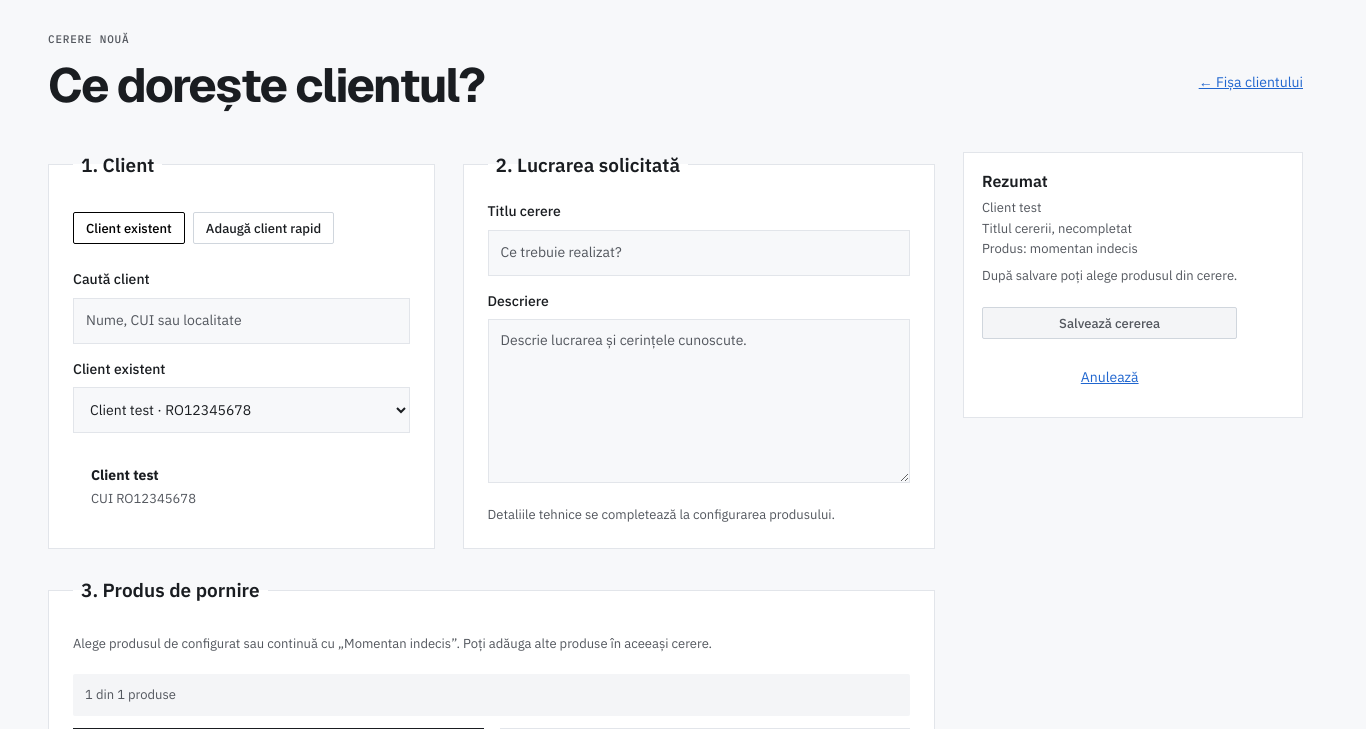
Scenario: request intake › does not navigate from an abandoned pending request or submit twice
Type "Litere atelier" into the field labelled "Titlu cerere".
click(699, 253); type("Litere atelier")  # box [488,230,910,276]
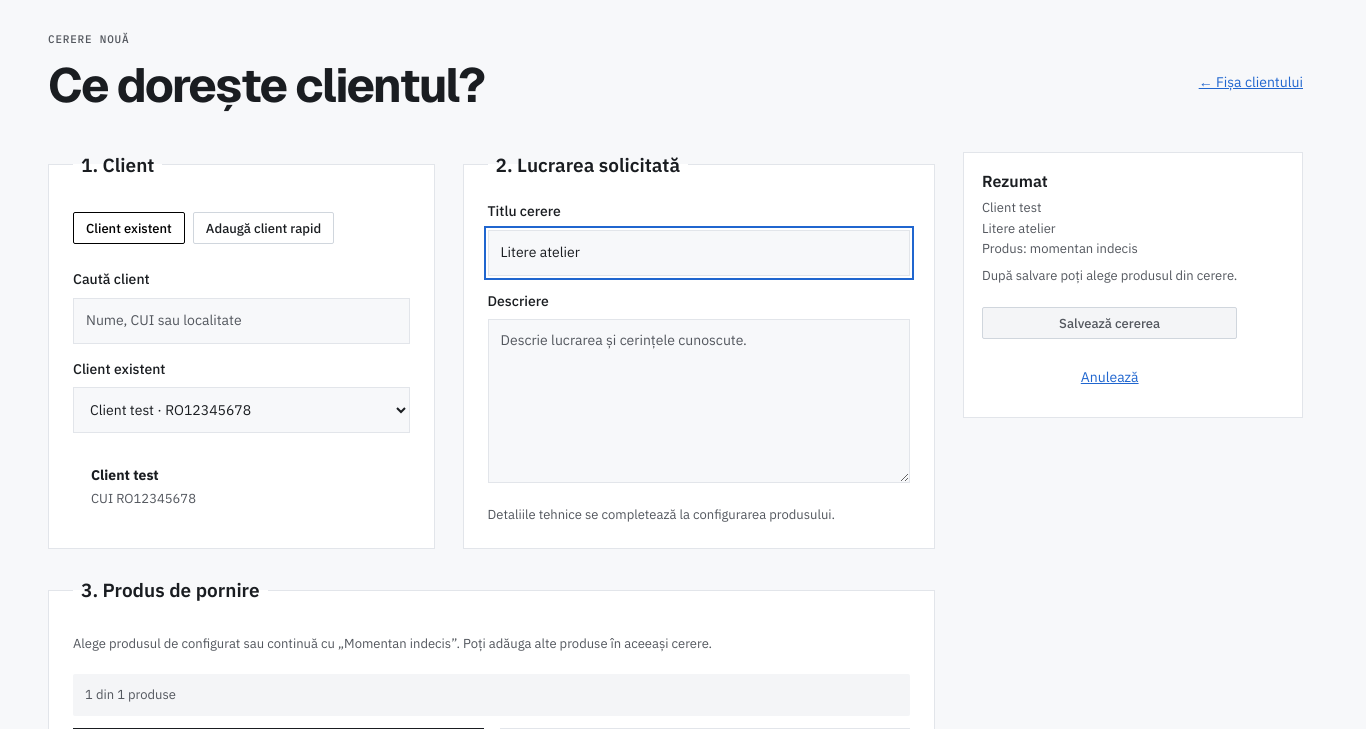
Type "Semnalistică la intrare" into the text box labelled "Descriere".
click(699, 401); type("Semnalistică la intrare")  # box [488,319,910,483]
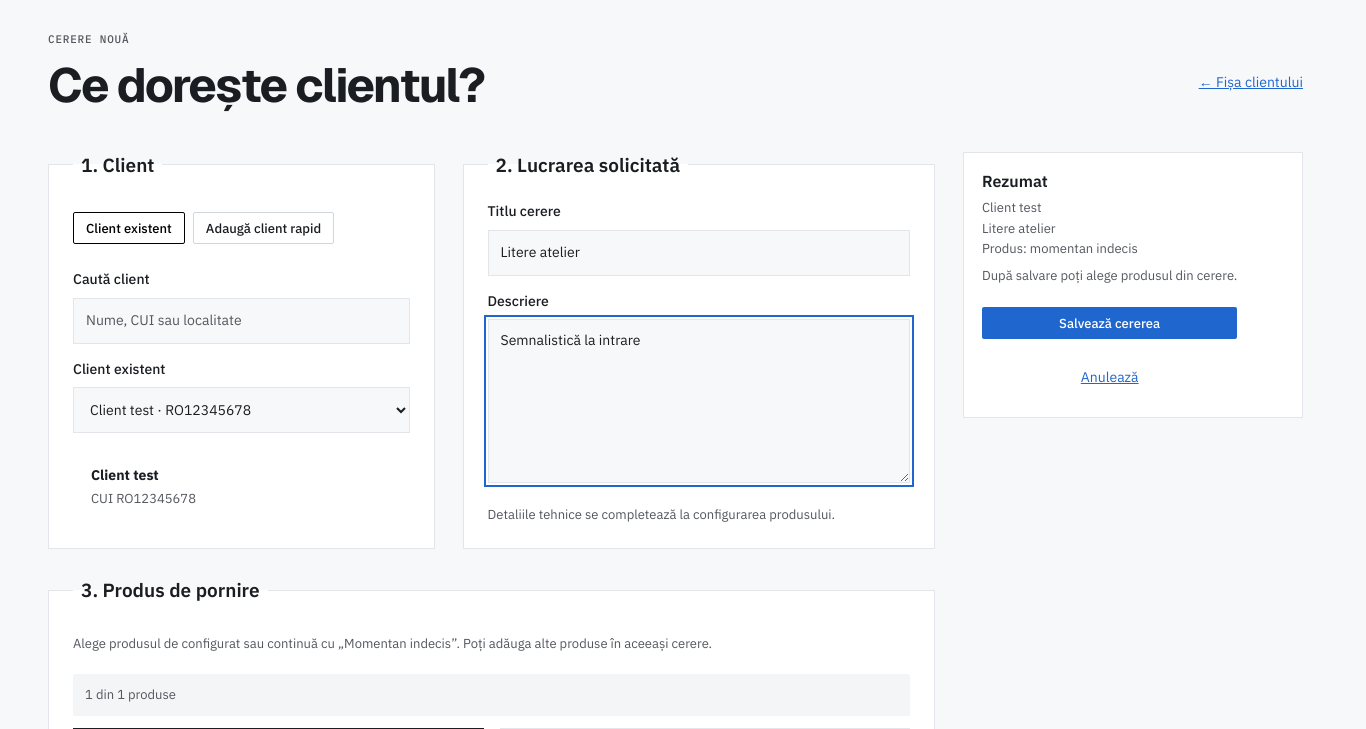
Check: the button "Salvează cererea" is enabled
Click the button "Salvează cererea".
click(1110, 323)  # box [982,301,1237,345]
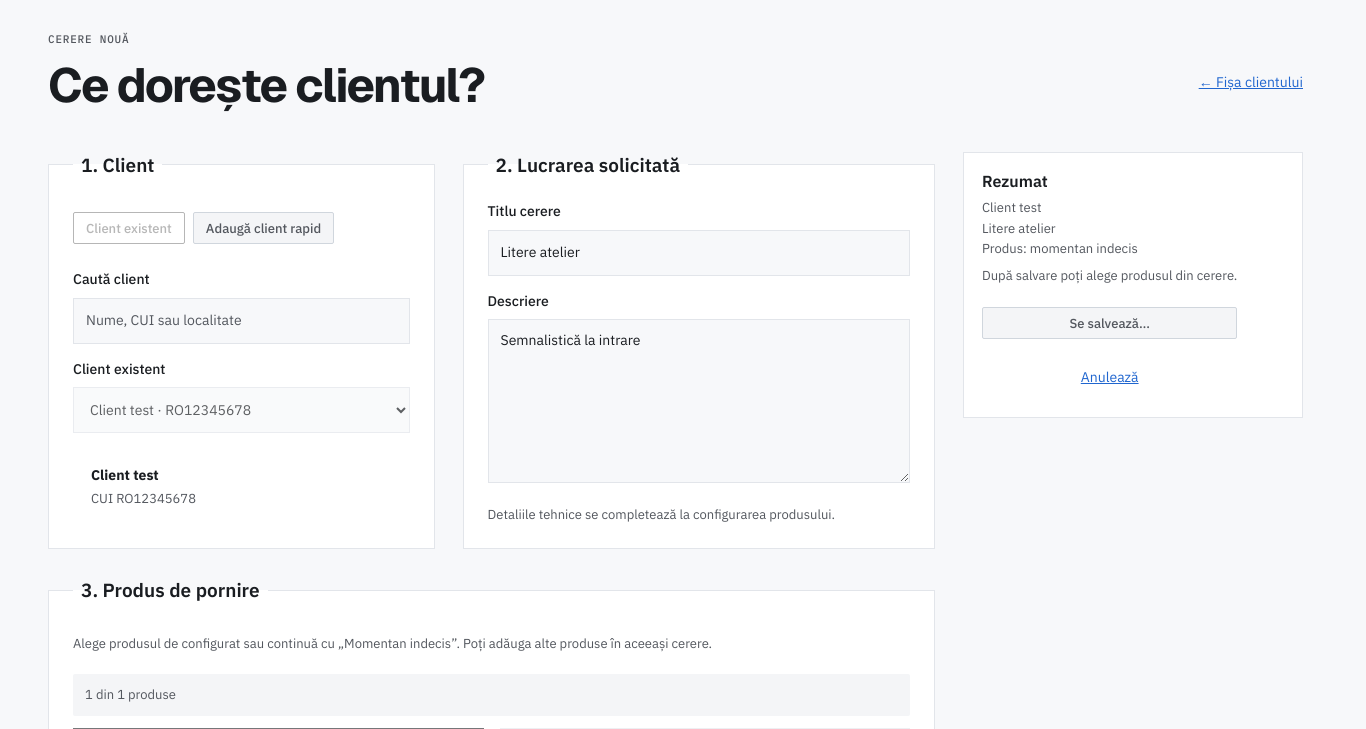
Check: the button "Se salvează…" is disabled, box [982,301,1237,345]
